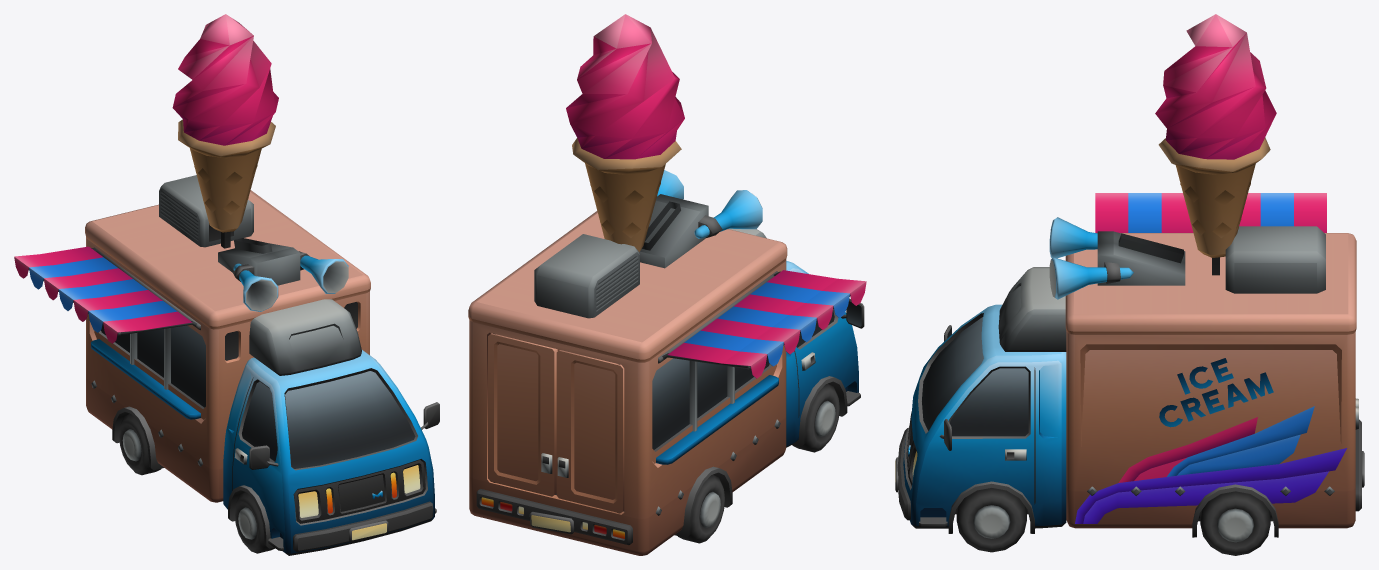
The model's file is Car_10D.fbx.
3 views of the same model, side by side, from view 1: azimuth 30°, elevation 25°; view 2: azimuth 150°, elevation 25°; view 3: azimuth 270°, elevation 25° (orthographic). The views are drawn at different scales.
Parts seen in each view (by area): view 1: Car_10D, Car_Cone_10D, Car_Shed_10D, Wheel_10D_F.R, Wheel_10D_R.R; view 2: Car_10D, Car_Cone_10D, Door_10D_R.L, Car_Shed_10D, Door_10D_R.R, Wheel_10D_F.R, Wheel_10D_R.R; view 3: Car_10D, Car_Cone_10D, Car_Shed_10D, Wheel_10D_R.L, Wheel_10D_F.L.
Part boxes in pixels (x1=…): Car_10D: x1=85, y1=175, x2=439, y2=555; Car_Cone_10D: x1=172, y1=14, x2=278, y2=248; Car_Shed_10D: x1=14, y1=246, x2=196, y2=343; Wheel_10D_F.R: x1=234, y1=492, x2=275, y2=553; Wheel_10D_R.R: x1=119, y1=413, x2=160, y2=475; Car_10D: x1=468, y1=170, x2=864, y2=555; Car_Cone_10D: x1=566, y1=14, x2=684, y2=252; Door_10D_R.L: x1=488, y1=333, x2=557, y2=496; Car_Shed_10D: x1=662, y1=270, x2=866, y2=378; Door_10D_R.R: x1=556, y1=350, x2=624, y2=513; Wheel_10D_F.R: x1=792, y1=383, x2=839, y2=452; Wheel_10D_R.R: x1=678, y1=474, x2=724, y2=543; Car_10D: x1=895, y1=217, x2=1364, y2=537; Car_Cone_10D: x1=1155, y1=14, x2=1276, y2=275; Car_Shed_10D: x1=1095, y1=193, x2=1326, y2=232; Wheel_10D_R.L: x1=1200, y1=491, x2=1270, y2=555; Wheel_10D_F.L: x1=956, y1=488, x2=1026, y2=552.
Bounding box in the file's own units: 3.77 × 6.25 × 5.34.
